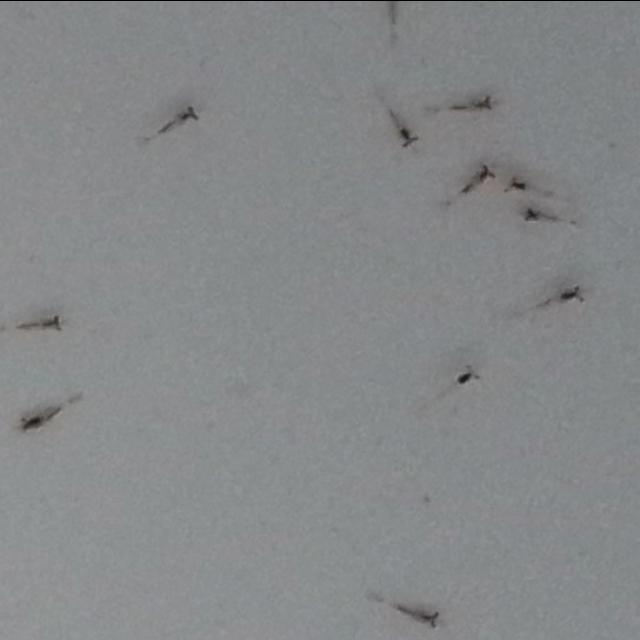shrimp-seed: (398, 599, 442, 631), (160, 104, 199, 132), (21, 405, 59, 433), (19, 312, 63, 336), (464, 162, 496, 192), (456, 92, 494, 114), (455, 360, 483, 386), (558, 282, 588, 306), (522, 204, 552, 227), (398, 124, 422, 148), (504, 172, 528, 192)
